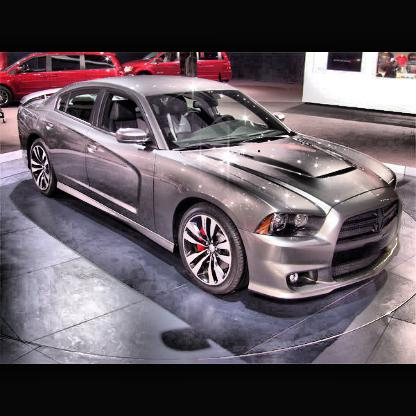Dodge Charger Sedan 2012: (19, 76, 404, 320)
